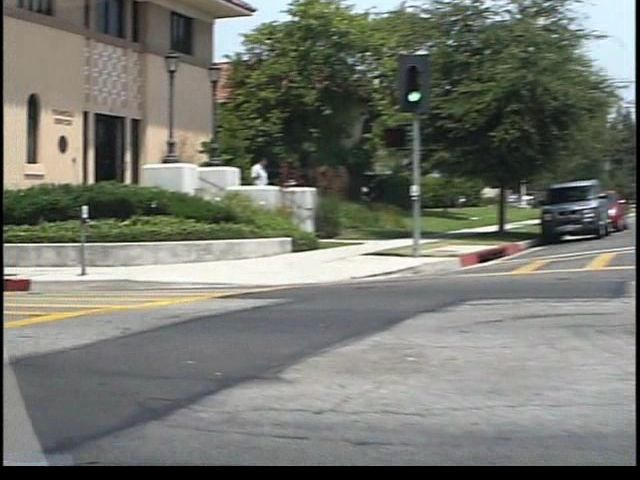person: (237, 151, 259, 220)
